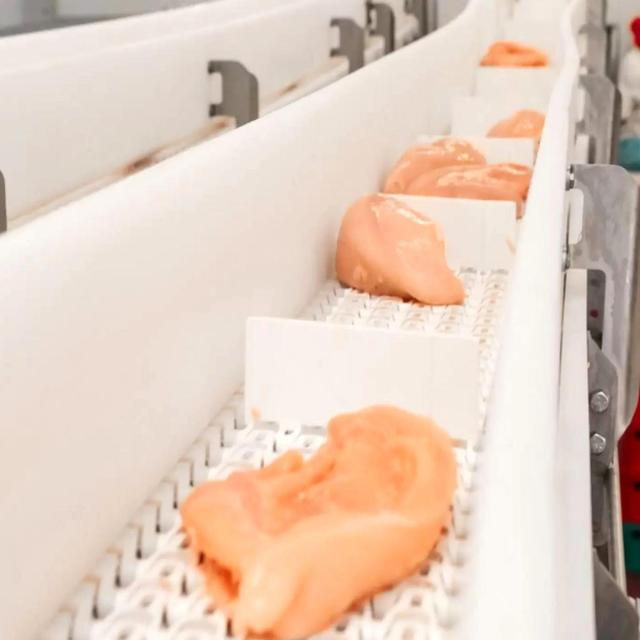food: (178, 402, 458, 639), (333, 191, 467, 307)
